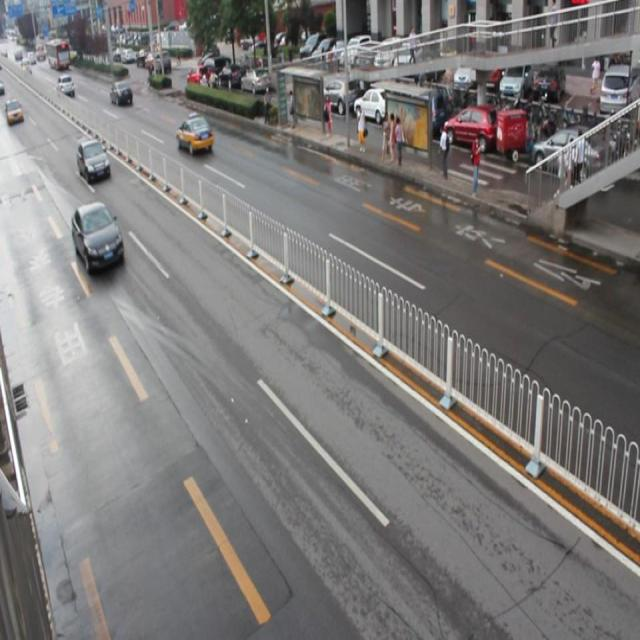car: (72, 200, 124, 273), (77, 138, 112, 184), (176, 114, 213, 155), (108, 79, 134, 108)
